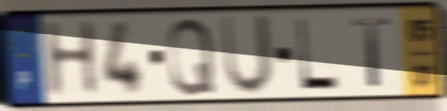4: (100, 18, 149, 99)
H: (40, 17, 102, 102)
L: (293, 15, 342, 93)
Q: (165, 16, 217, 99)
T: (350, 15, 394, 91)
U: (218, 12, 276, 99)
